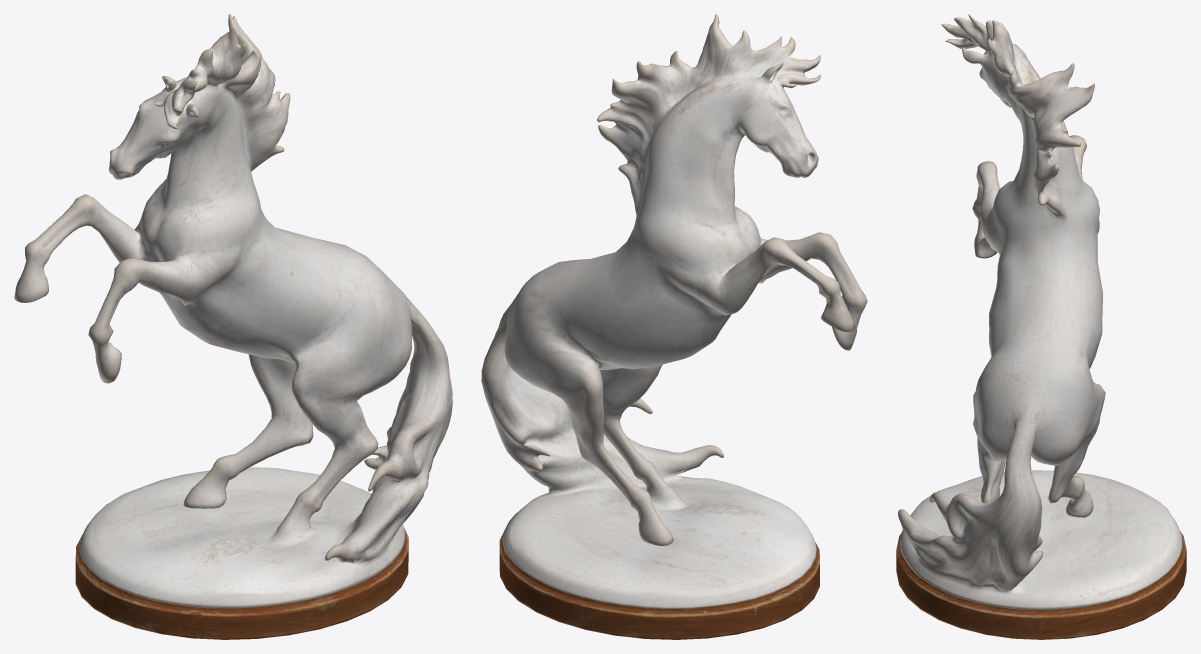
The model's file is horse.obj.
3 views of the same model, side by side, from view 1: azimuth 30°, elevation 25°; view 2: azimuth 150°, elevation 25°; view 3: azimuth 270°, elevation 25° (orthographic). The views are drawn at different scales.
Parts seen in each view (by area): view 1: horse_statue_01; view 2: horse_statue_01; view 3: horse_statue_01.
Part boxes in pixels (left/top/right/bottom): horse_statue_01: left=14, top=14, right=452, bottom=639; horse_statue_01: left=481, top=14, right=867, bottom=639; horse_statue_01: left=896, top=14, right=1186, bottom=639.
Size of the model in its own units: 0.1638 by 0.22 by 0.1078.
2 materials, 2 textured.
